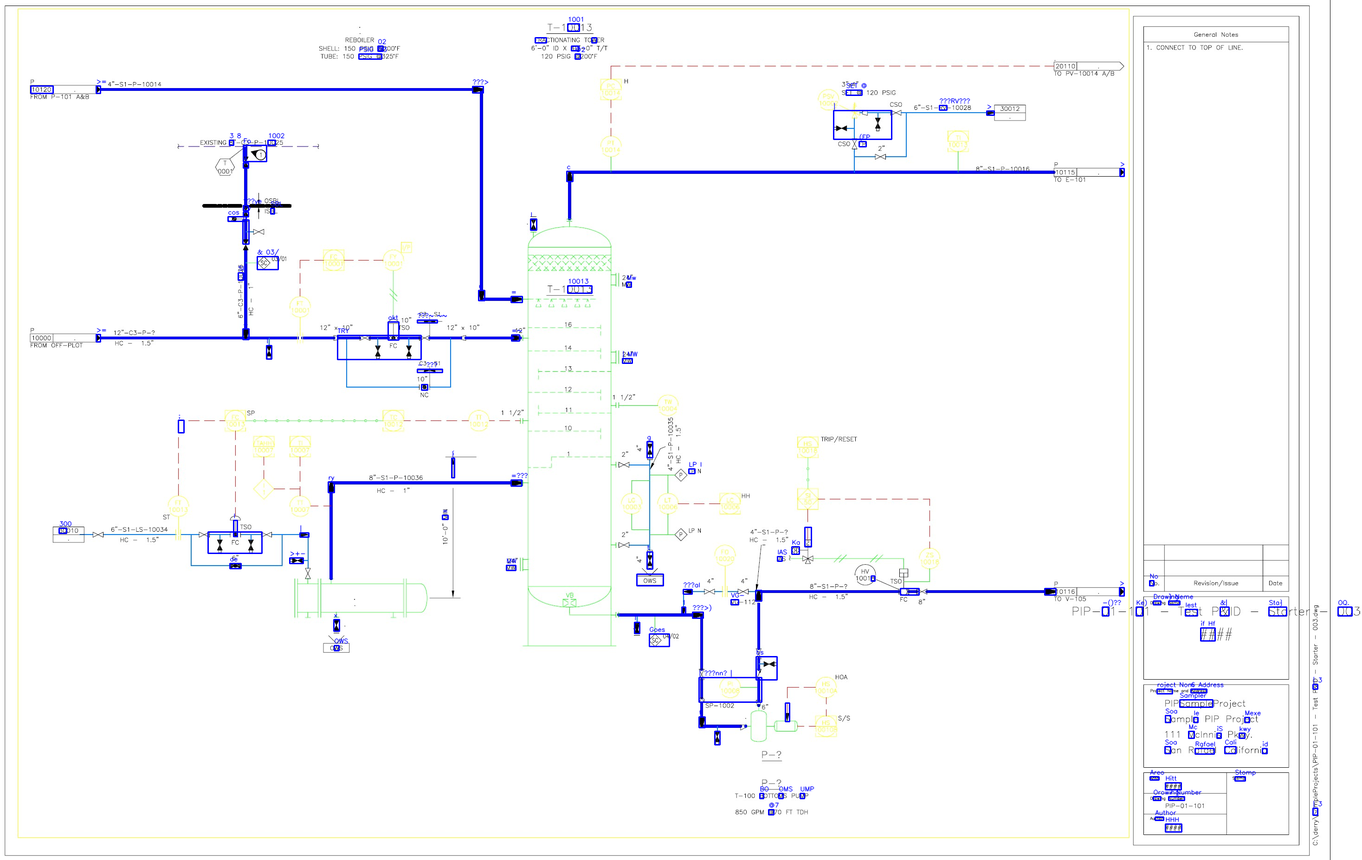Compressor: (738, 722, 748, 732), (458, 333, 469, 342), (861, 108, 869, 117), (333, 334, 340, 343), (755, 700, 762, 707)
Conexão: (226, 215, 250, 223), (295, 329, 305, 344), (174, 528, 183, 542), (721, 585, 730, 599)
Instrumento: (813, 675, 838, 700), (598, 78, 624, 102), (599, 134, 623, 159), (288, 434, 312, 459), (946, 129, 970, 153), (223, 409, 247, 433), (381, 409, 405, 433), (619, 492, 644, 515), (718, 492, 743, 515), (717, 676, 742, 699), (322, 249, 346, 272), (381, 249, 405, 272), (167, 494, 190, 518), (656, 394, 680, 417), (814, 715, 838, 738), (656, 492, 679, 515), (289, 295, 311, 319), (467, 410, 491, 432)
Outro: (525, 223, 614, 650), (252, 435, 276, 459), (796, 435, 820, 459), (252, 478, 276, 501), (918, 547, 941, 571), (288, 495, 312, 517), (796, 488, 820, 510), (256, 255, 271, 270), (648, 633, 662, 648), (674, 468, 688, 482), (674, 528, 688, 541), (791, 545, 800, 555)
Tanque: (749, 709, 768, 744)
TrocadordeCalor: (291, 577, 429, 620), (898, 567, 909, 578), (697, 695, 706, 704)
Vaso: (772, 719, 799, 733)
Válvula: (801, 538, 815, 565), (228, 515, 242, 539), (387, 318, 400, 342), (851, 100, 861, 120), (646, 548, 654, 568), (833, 124, 848, 134), (646, 442, 653, 462), (264, 344, 273, 359), (418, 333, 431, 343), (897, 587, 910, 597), (241, 155, 250, 169), (290, 556, 304, 565), (617, 461, 631, 470), (736, 587, 750, 596), (241, 237, 249, 252), (374, 344, 382, 359), (874, 116, 881, 133), (418, 383, 431, 392), (229, 561, 242, 570), (332, 619, 341, 632), (915, 587, 928, 596), (529, 217, 537, 231), (889, 108, 903, 116), (617, 541, 631, 549), (697, 667, 705, 681), (713, 730, 721, 744), (754, 668, 762, 682), (763, 659, 775, 668), (242, 204, 250, 217), (252, 228, 265, 236), (358, 334, 371, 342), (633, 622, 641, 635), (405, 344, 412, 358), (851, 137, 858, 151), (873, 153, 887, 160), (259, 531, 273, 538), (198, 532, 211, 539), (216, 539, 223, 552), (247, 539, 254, 552), (304, 567, 311, 580), (703, 588, 716, 595), (755, 647, 762, 660), (92, 531, 104, 538)
